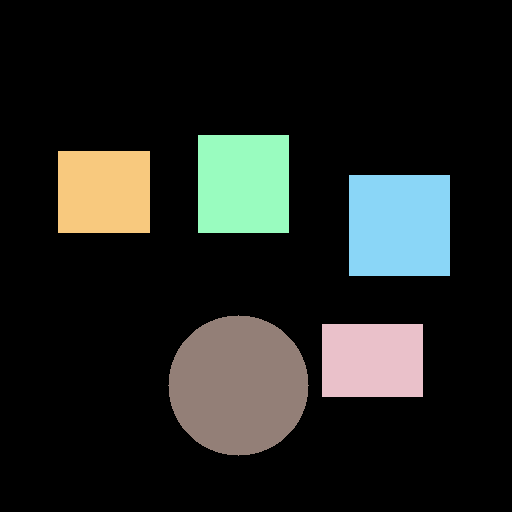circle: (168, 315, 308, 455)
rectangle: (58, 151, 149, 232), (322, 324, 422, 396)
square: (349, 175, 449, 275), (198, 135, 288, 232)
